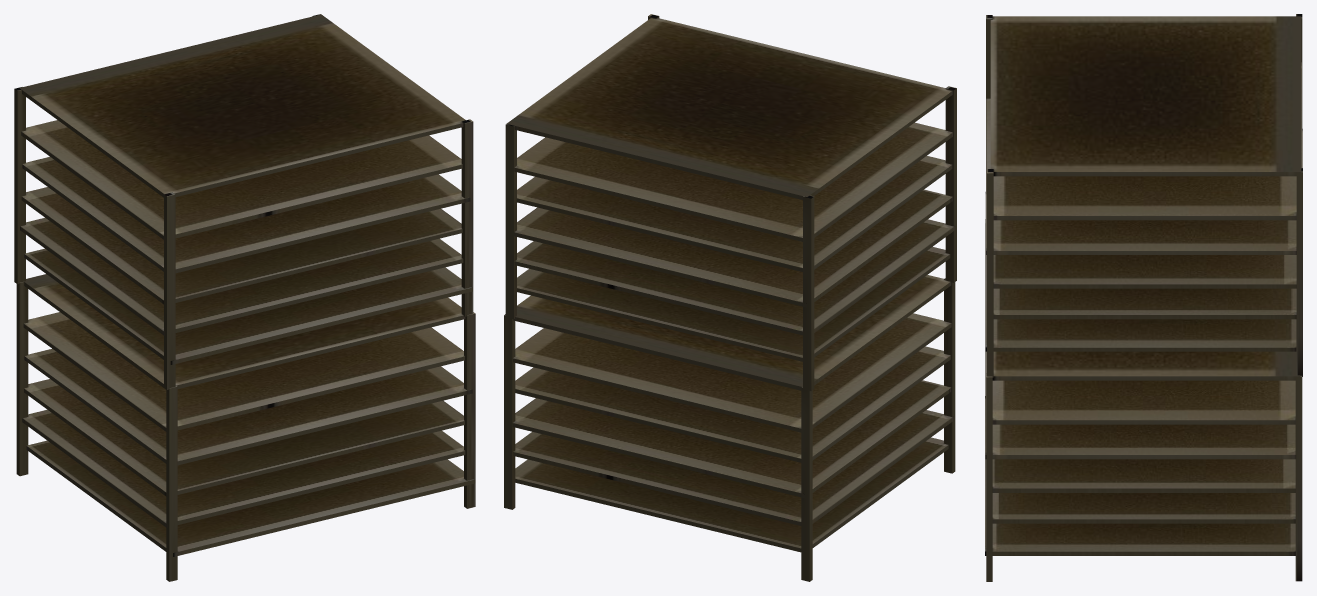
Rendered from rack2.dae.
3 renders of one model, left to right at view 1: azimuth 30°, elevation 25°; view 2: azimuth 150°, elevation 25°; view 3: azimuth 270°, elevation 25°, orthographic. The views are drawn at different scales.
Visible parts, largest first — view 1: Cube_007; view 2: Cube_007; view 3: Cube_007.
Boxes of the visible parts, <box> form: Cube_007: <box>14,14,475,581</box>; Cube_007: <box>504,14,956,581</box>; Cube_007: <box>985,14,1302,581</box>.
Size of the model in its own units: 3.69 by 3.08 by 4.37.
Materials: 1 (1 with a texture image).
